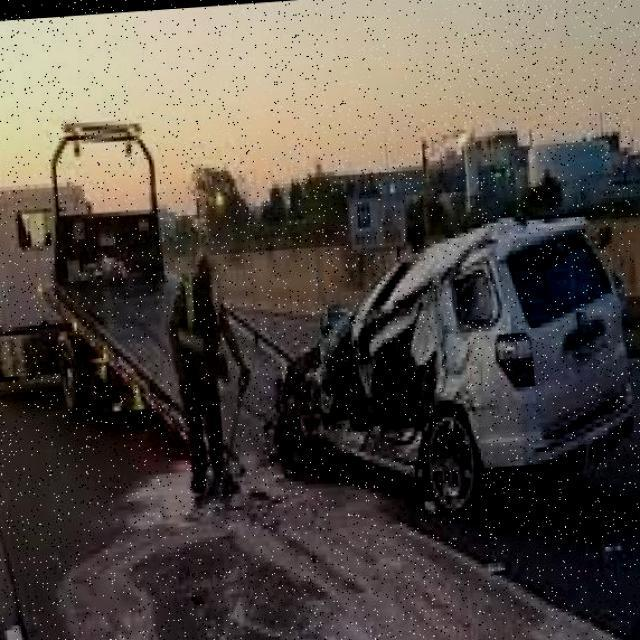accident: (253, 200, 640, 548)
